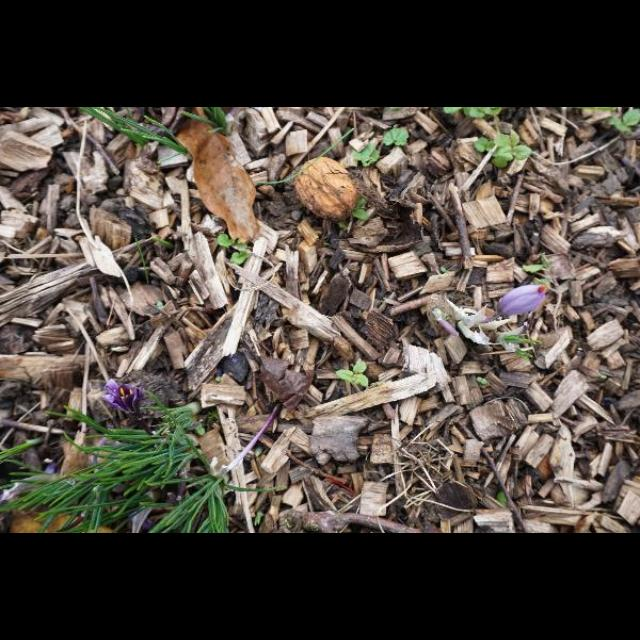flower: (498, 284, 546, 316)
